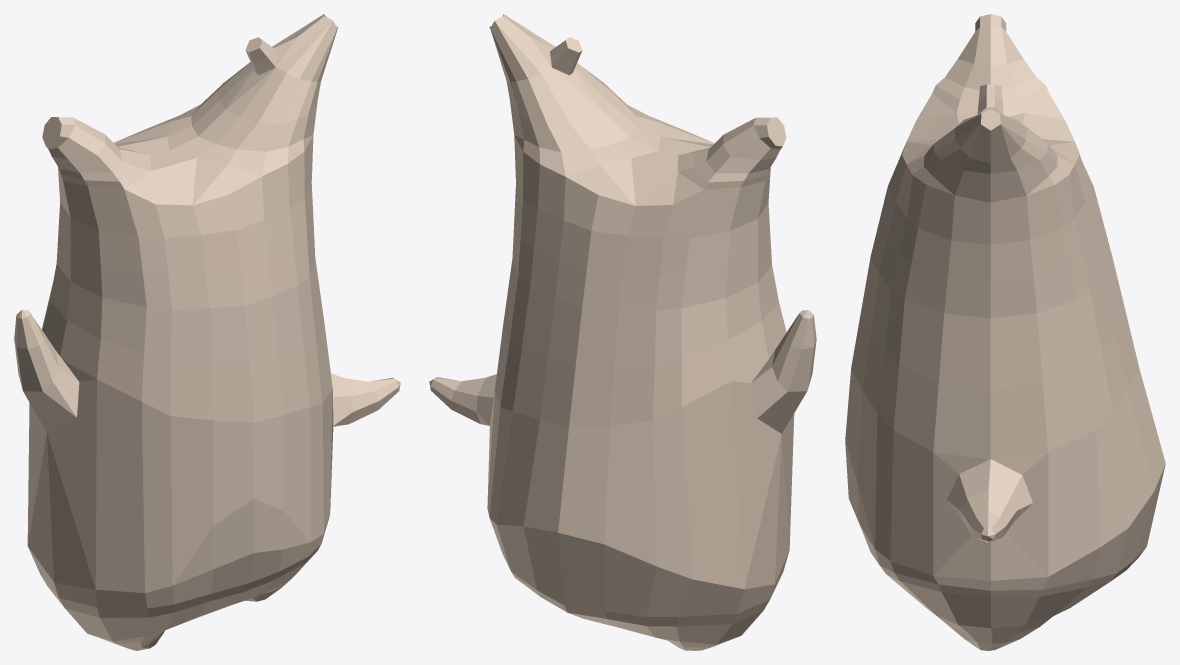
File: frame_0059.obj
The picture shows the model from 3 angles, left to right: view 1: azimuth 30°, elevation 25°; view 2: azimuth 150°, elevation 25°; view 3: azimuth 270°, elevation 25°; orthographic projection.
Visible parts, largest first — view 1: korok; view 2: korok; view 3: korok.
Boxes of the visible parts, left/top/right/bottom form: korok: left=14, top=14, right=400, bottom=650; korok: left=429, top=14, right=816, bottom=650; korok: left=845, top=14, right=1165, bottom=650.
Size of the model in its own units: 1.5 by 2.19 by 1.07.
